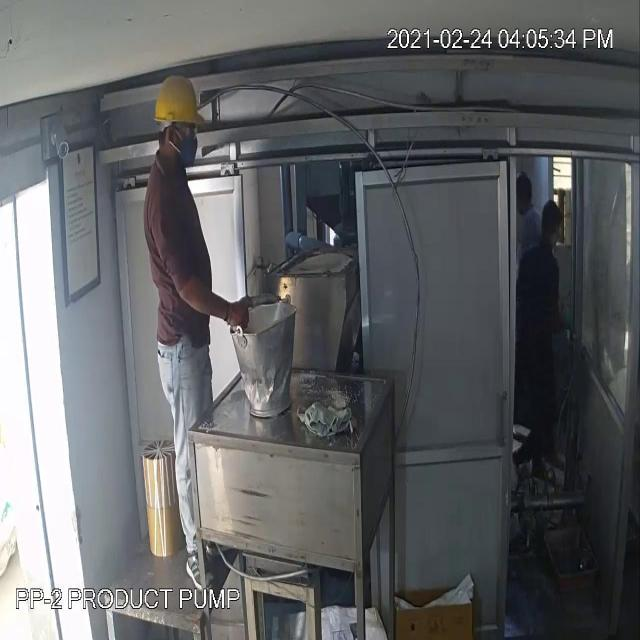helmet: (152, 70, 202, 132)
